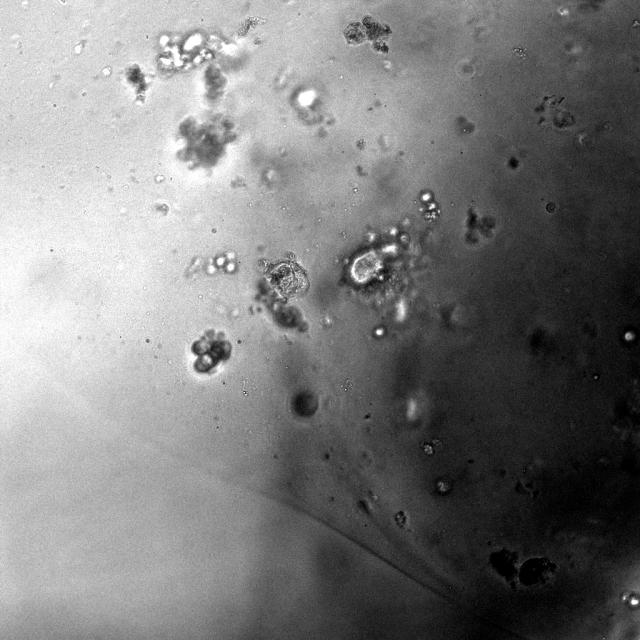organoid: (156, 28, 243, 168), (339, 219, 429, 322), (248, 251, 309, 331), (489, 549, 556, 589), (342, 15, 391, 53), (190, 330, 232, 374), (185, 252, 238, 276), (464, 207, 496, 245), (125, 63, 154, 102), (292, 390, 318, 416), (418, 189, 439, 221), (238, 16, 266, 36), (545, 202, 556, 212), (509, 157, 518, 169)
